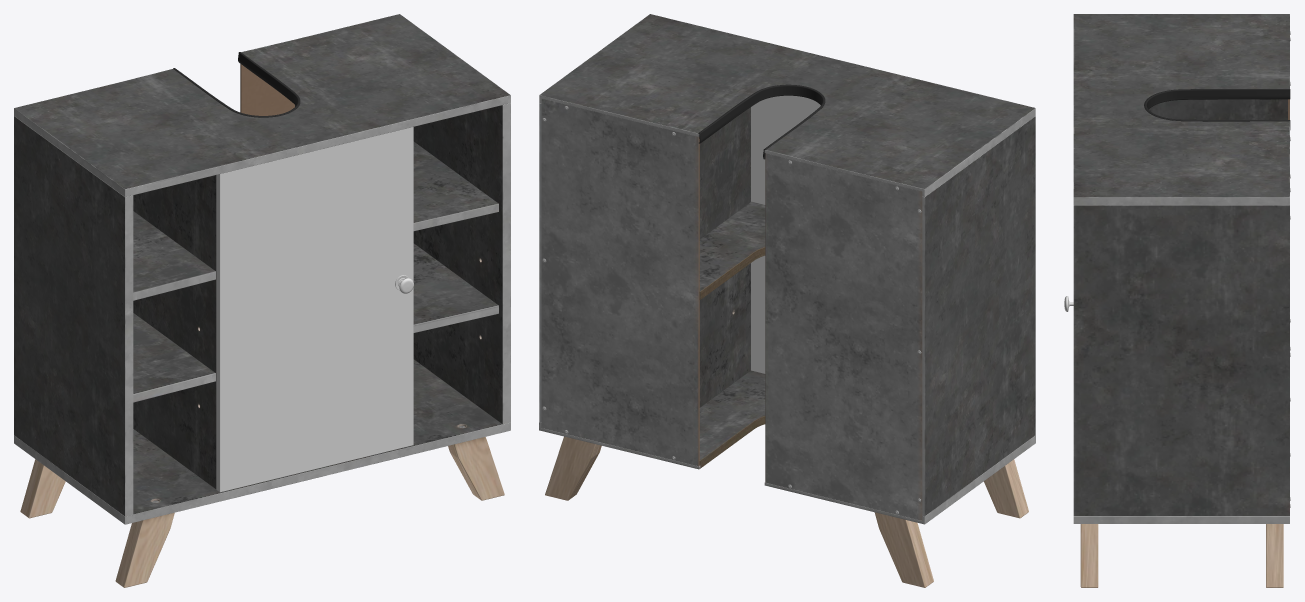
The model's file is bathroom-shelf.glb.
3 views of the same model, side by side, from view 1: azimuth 30°, elevation 25°; view 2: azimuth 150°, elevation 25°; view 3: azimuth 270°, elevation 25° (orthographic). The views are drawn at different scales.
Parts seen in each view (by area): view 1: Shelf; view 2: Shelf; view 3: Shelf.
Part boxes in pixels (bbox=[...]): Shelf: bbox=[14, 14, 510, 587]; Shelf: bbox=[539, 14, 1035, 587]; Shelf: bbox=[1064, 14, 1290, 587].
Size of the model in its own units: 0.6 by 0.5994 by 0.3127.
1 material, 1 textured.
